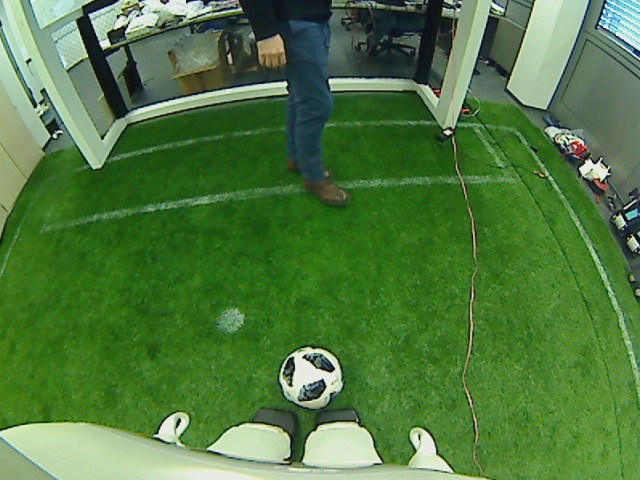ball: (277, 343, 343, 408)
